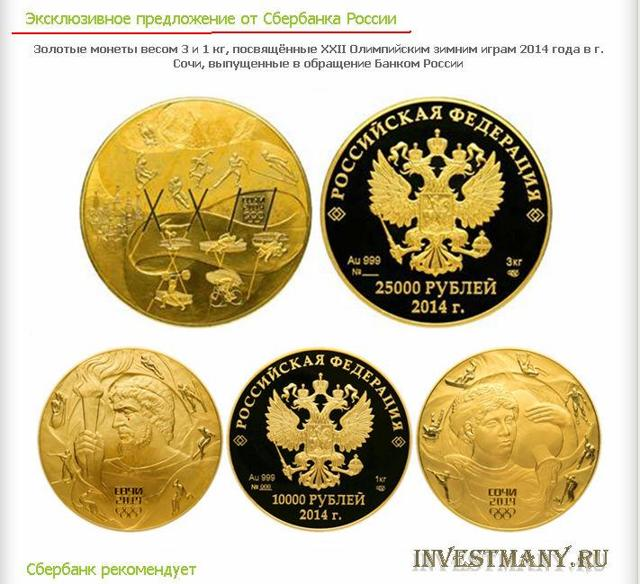coin: (318, 94, 554, 327), (80, 96, 313, 327), (416, 346, 602, 532), (225, 348, 413, 531), (36, 348, 223, 531)
